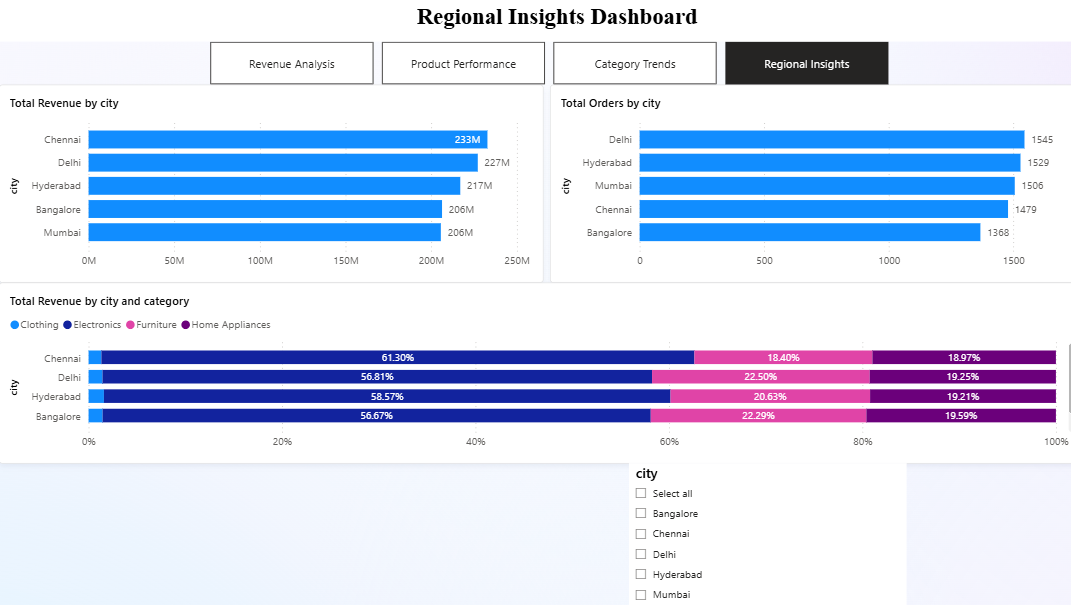

What the dashboard file says about the page in this screenshot:
{"tool":"powerbi","page":{"name":"Regional Insights","canvas":[1280,720],"ordinal":3},"visuals":[{"type":"clusteredBarChart","fields":{"Category":["cleaned_retail_data.city"],"Y":["cleaned_retail_data.Total Revenue"]},"box":[0,100.7,640.6,232.9],"z":0},{"type":"clusteredBarChart","fields":{"Category":["cleaned_retail_data.city"],"Y":["cleaned_retail_data.Total Orders"]},"box":[648.4,100.7,624.8,232.9],"z":1000},{"type":"hundredPercentStackedBarChart","fields":{"Category":["cleaned_retail_data.city"],"Y":["cleaned_retail_data.Total Revenue"],"Series":["cleaned_retail_data.category"]},"box":[0,333.3,1280,213.3],"z":2000},{"type":"slicer","fields":{"Values":["cleaned_retail_data.city"]},"box":[741.7,546.7,326.7,173.3],"z":3000},{"type":"pageNavigator","box":[248.7,50.4,799.5,50.4],"z":4000},{"type":"textbox","box":[0,0,1279.6,50.4],"z":5000}]}

Visuals, with their boxes in screenshot pixels (x1, y1, x2, y2), scaled from the page's 1280x720 canvas onto the 1071x605 screenshot:
clusteredBarChart - cleaned_retail_data.city x cleaned_retail_data.Total Revenue: left=0, top=85, right=536, bottom=280
clusteredBarChart - cleaned_retail_data.city x cleaned_retail_data.Total Orders: left=543, top=85, right=1065, bottom=280
hundredPercentStackedBarChart - cleaned_retail_data.city x cleaned_retail_data.Total Revenue: left=0, top=280, right=1070, bottom=459
slicer - cleaned_retail_data.city: left=621, top=459, right=894, bottom=604
pageNavigator: left=208, top=42, right=877, bottom=85
textbox: left=0, top=0, right=1070, bottom=42
